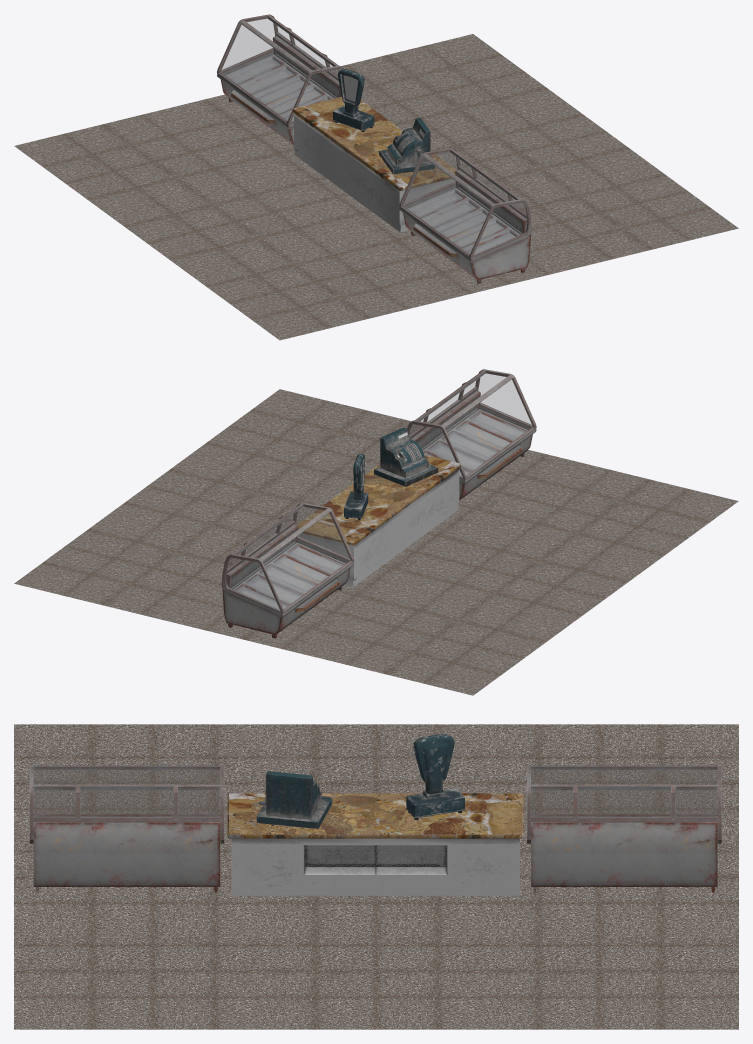
Rendered from shop_asset_pack.glb.
3 views of the same model, one above another, from view 1: azimuth 30°, elevation 25°; view 2: azimuth 150°, elevation 25°; view 3: azimuth 270°, elevation 25° (orthographic). The views are drawn at different scales.
Visible parts, largest first — view 1: floor, Fridge.002, Fridge.001, Table, ButtonCashRegister, BarterMachine; view 2: floor, Fridge.001, Table, Fridge.002, ButtonCashRegister, BarterMachine; view 3: floor, Table, Fridge.002, Fridge.001, ButtonCashRegister, BarterMachine.
Boxes of the visible parts, x1,y1,x2,y2 form: floor: [14, 34, 738, 340]; Fridge.002: [399, 148, 531, 283]; Fridge.001: [217, 14, 344, 145]; Table: [292, 96, 456, 232]; ButtonCashRegister: [379, 118, 435, 174]; BarterMachine: [333, 69, 374, 131]; floor: [14, 389, 738, 695]; Fridge.001: [221, 502, 354, 638]; Table: [297, 454, 460, 586]; Fridge.002: [407, 369, 536, 504]; ButtonCashRegister: [374, 427, 438, 486]; BarterMachine: [344, 454, 368, 519]; floor: [14, 724, 738, 1029]; Table: [227, 793, 523, 895]; Fridge.002: [29, 765, 224, 892]; Fridge.001: [527, 765, 721, 892]; ButtonCashRegister: [256, 771, 332, 828]; BarterMachine: [406, 734, 464, 819].
Bounding box in the file's own units: 13.48 × 2.83 × 13.51.
11 materials, 6 textured.
